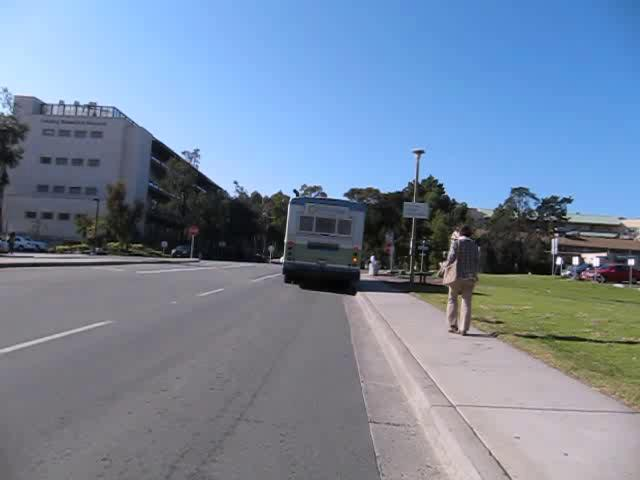stop: (187, 225, 199, 236)
